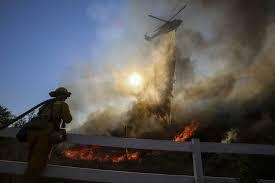fire: (62, 144, 141, 162), (173, 119, 200, 142)
